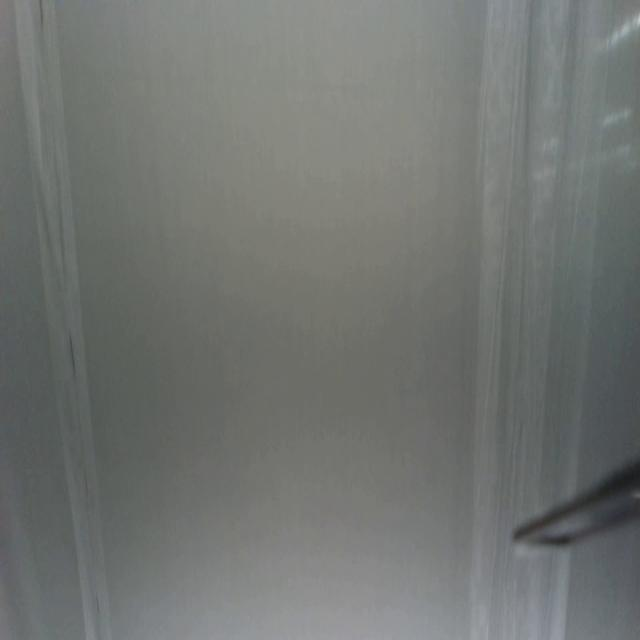crease: (10, 0, 114, 640), (474, 0, 583, 497), (470, 558, 569, 639)
